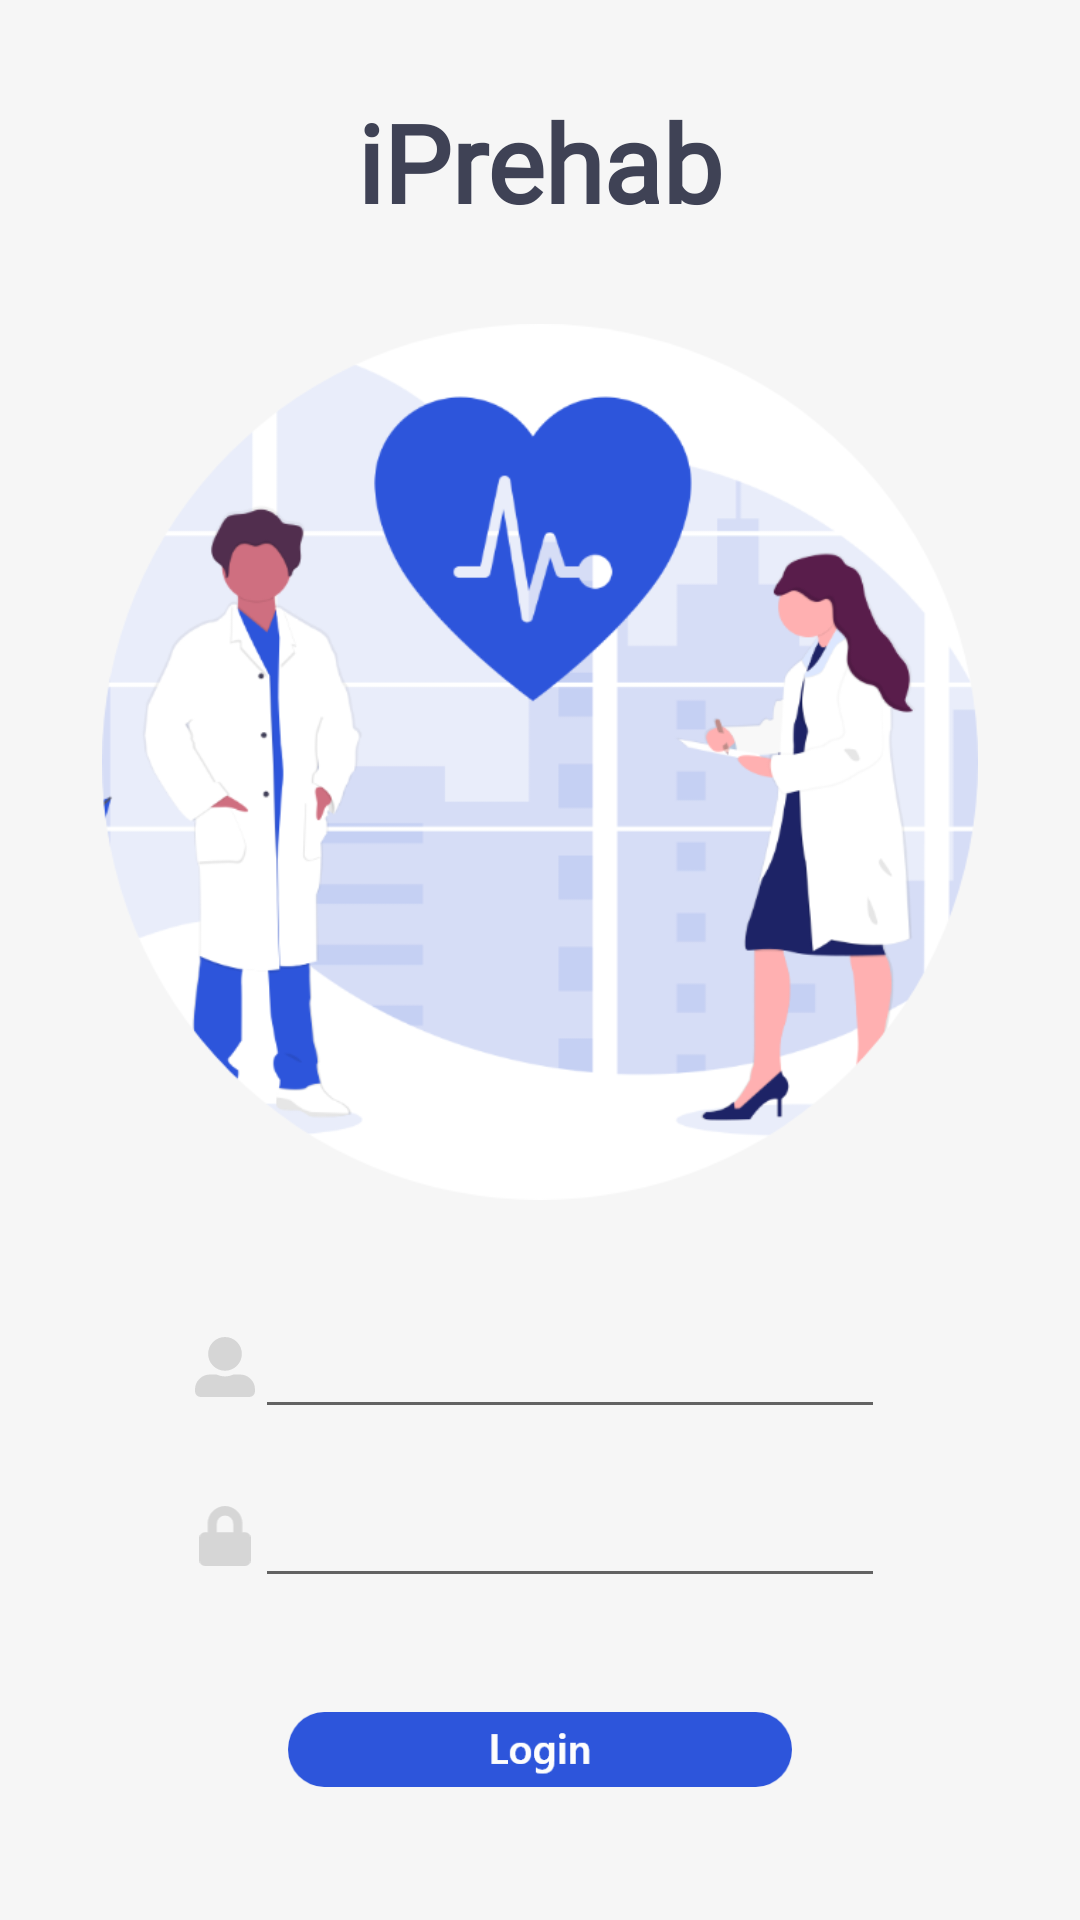

Where to tap for icons on this 1080px x 1920px app screen, as point (x, y):
password: point (225, 1536)
user: point (225, 1367)
